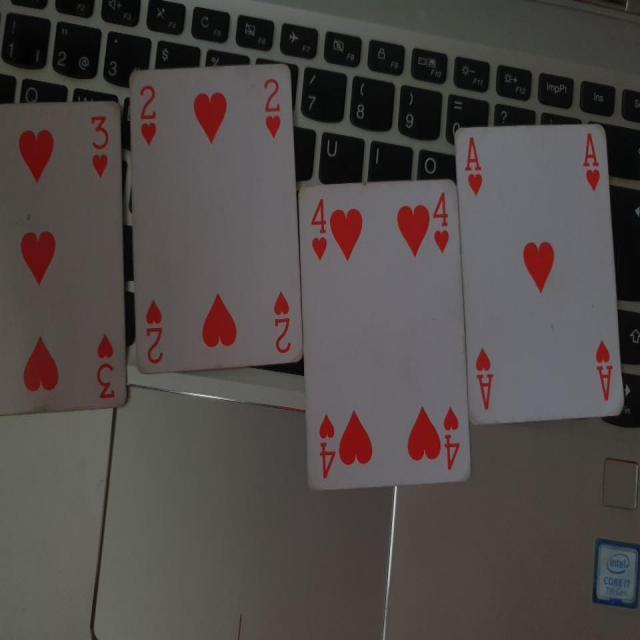2 of hearts: (123, 58, 303, 374)
3 of hearts: (0, 95, 126, 438)
4 of hearts: (300, 170, 476, 497)
ace of hearts: (449, 108, 632, 432)
